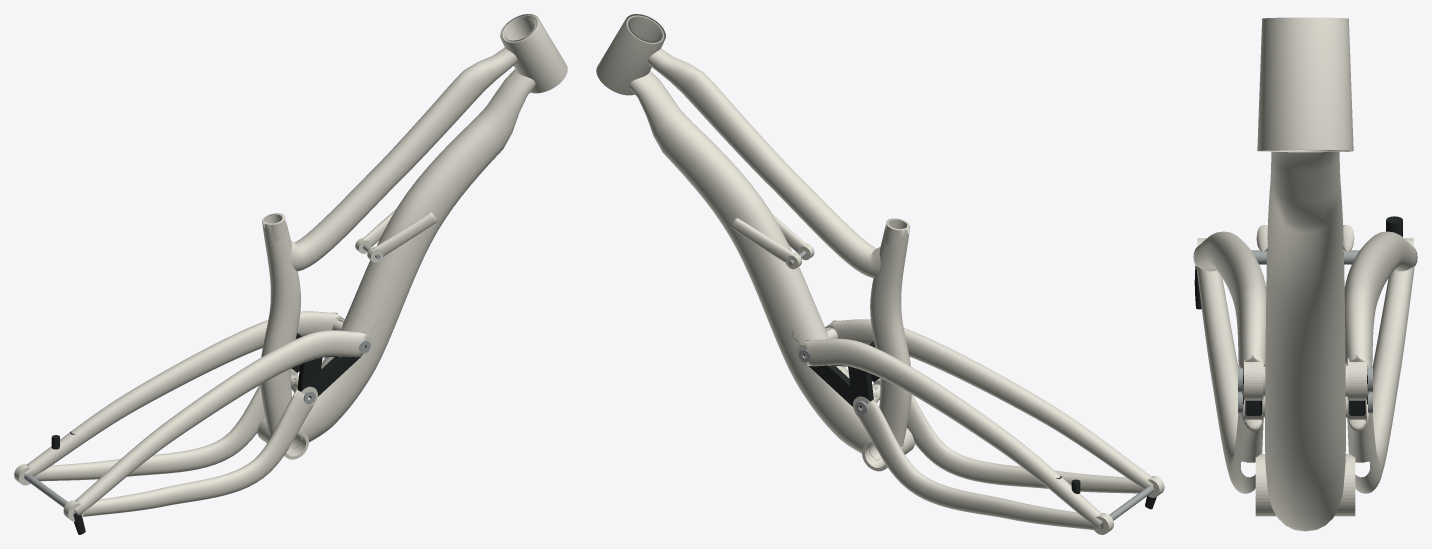
The model's file is yt-tues-mk4-carbon--m.glb.
3 renders of one model, left to right at view 1: azimuth 30°, elevation 25°; view 2: azimuth 150°, elevation 25°; view 3: azimuth 270°, elevation 25°, orthographic. The views are drawn at different scales.
Parts seen in each view (by area): view 1: yt-tues-mk4-carbon__paint_0, yt-tues-mk4-carbon__detail_1, yt-tues-mk4-carbon__detail_2; view 2: yt-tues-mk4-carbon__paint_0, yt-tues-mk4-carbon__detail_1, yt-tues-mk4-carbon__detail_2; view 3: yt-tues-mk4-carbon__paint_0, yt-tues-mk4-carbon__detail_1, yt-tues-mk4-carbon__detail_2.
Boxes of the visible parts, x1,y1,x2,y2 form: yt-tues-mk4-carbon__paint_0: (14,14,567,521); yt-tues-mk4-carbon__detail_1: (51,333,365,534); yt-tues-mk4-carbon__detail_2: (24,245,380,513); yt-tues-mk4-carbon__paint_0: (596,14,1164,534); yt-tues-mk4-carbon__detail_1: (803,341,1156,509); yt-tues-mk4-carbon__detail_2: (788,251,1154,529); yt-tues-mk4-carbon__paint_0: (1193,17,1417,531); yt-tues-mk4-carbon__detail_1: (1194,216,1402,415); yt-tues-mk4-carbon__detail_2: (1238,250,1372,413).
Size of the model in its own units: 1 by 0.7078 by 0.1863.
5 materials, 2 textured.
